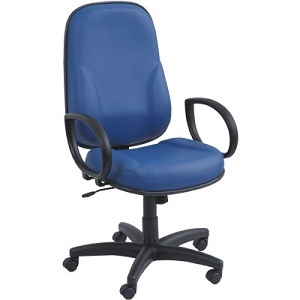chair: (63, 1, 238, 299)
